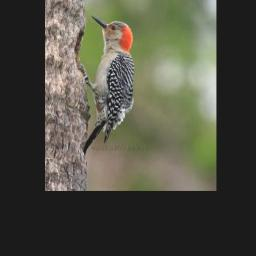Woodpecker: (80, 11, 141, 162)
